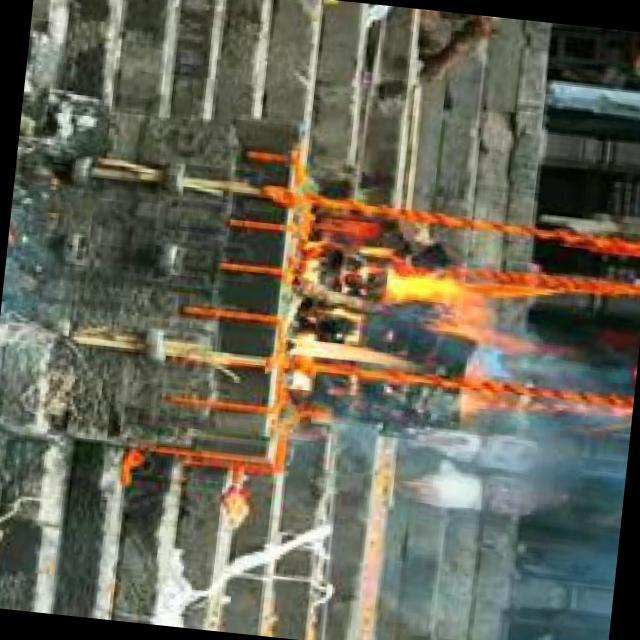Fire: (284, 259, 530, 393)
